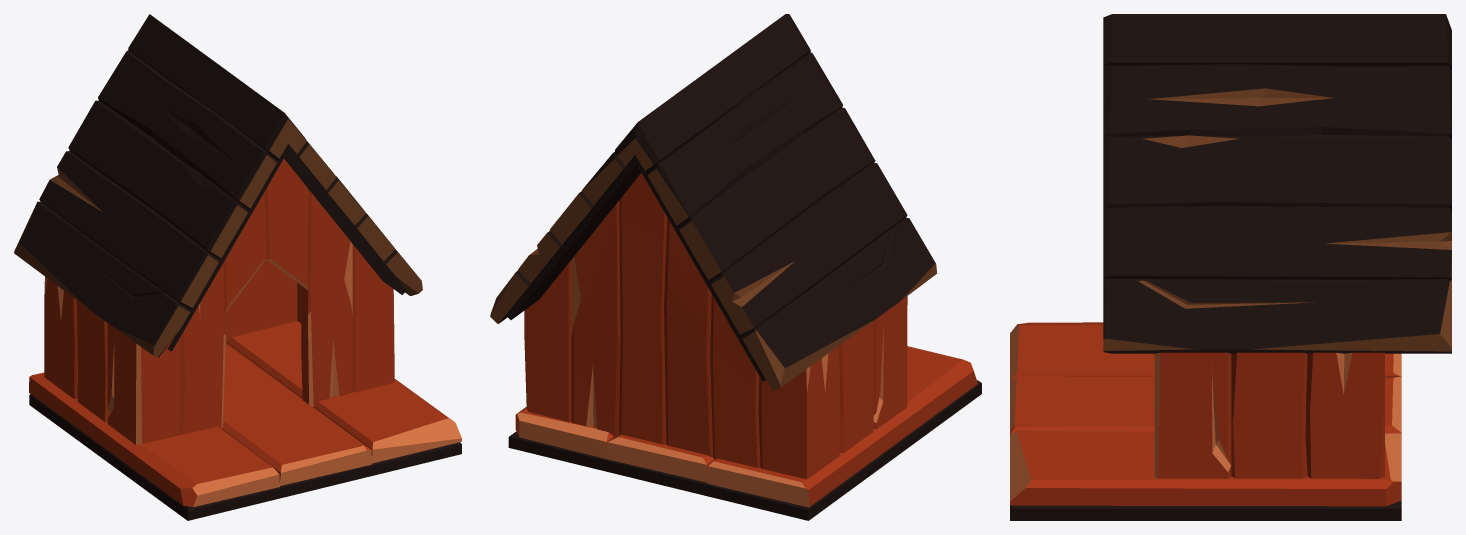
Rendered from Dog_House.fbx.
3 views of the same model, side by side, from view 1: azimuth 30°, elevation 25°; view 2: azimuth 150°, elevation 25°; view 3: azimuth 270°, elevation 25° (orthographic). The views are drawn at different scales.
Parts seen in each view (by area): view 1: Dog_House; view 2: Dog_House; view 3: Dog_House.
Part boxes in pixels (x1,y1,x2,y2): Dog_House: (14, 14, 461, 520); Dog_House: (490, 14, 981, 520); Dog_House: (1010, 14, 1451, 520).
Bounding box in the file's own units: 34.55 × 41.04 × 38.65.
